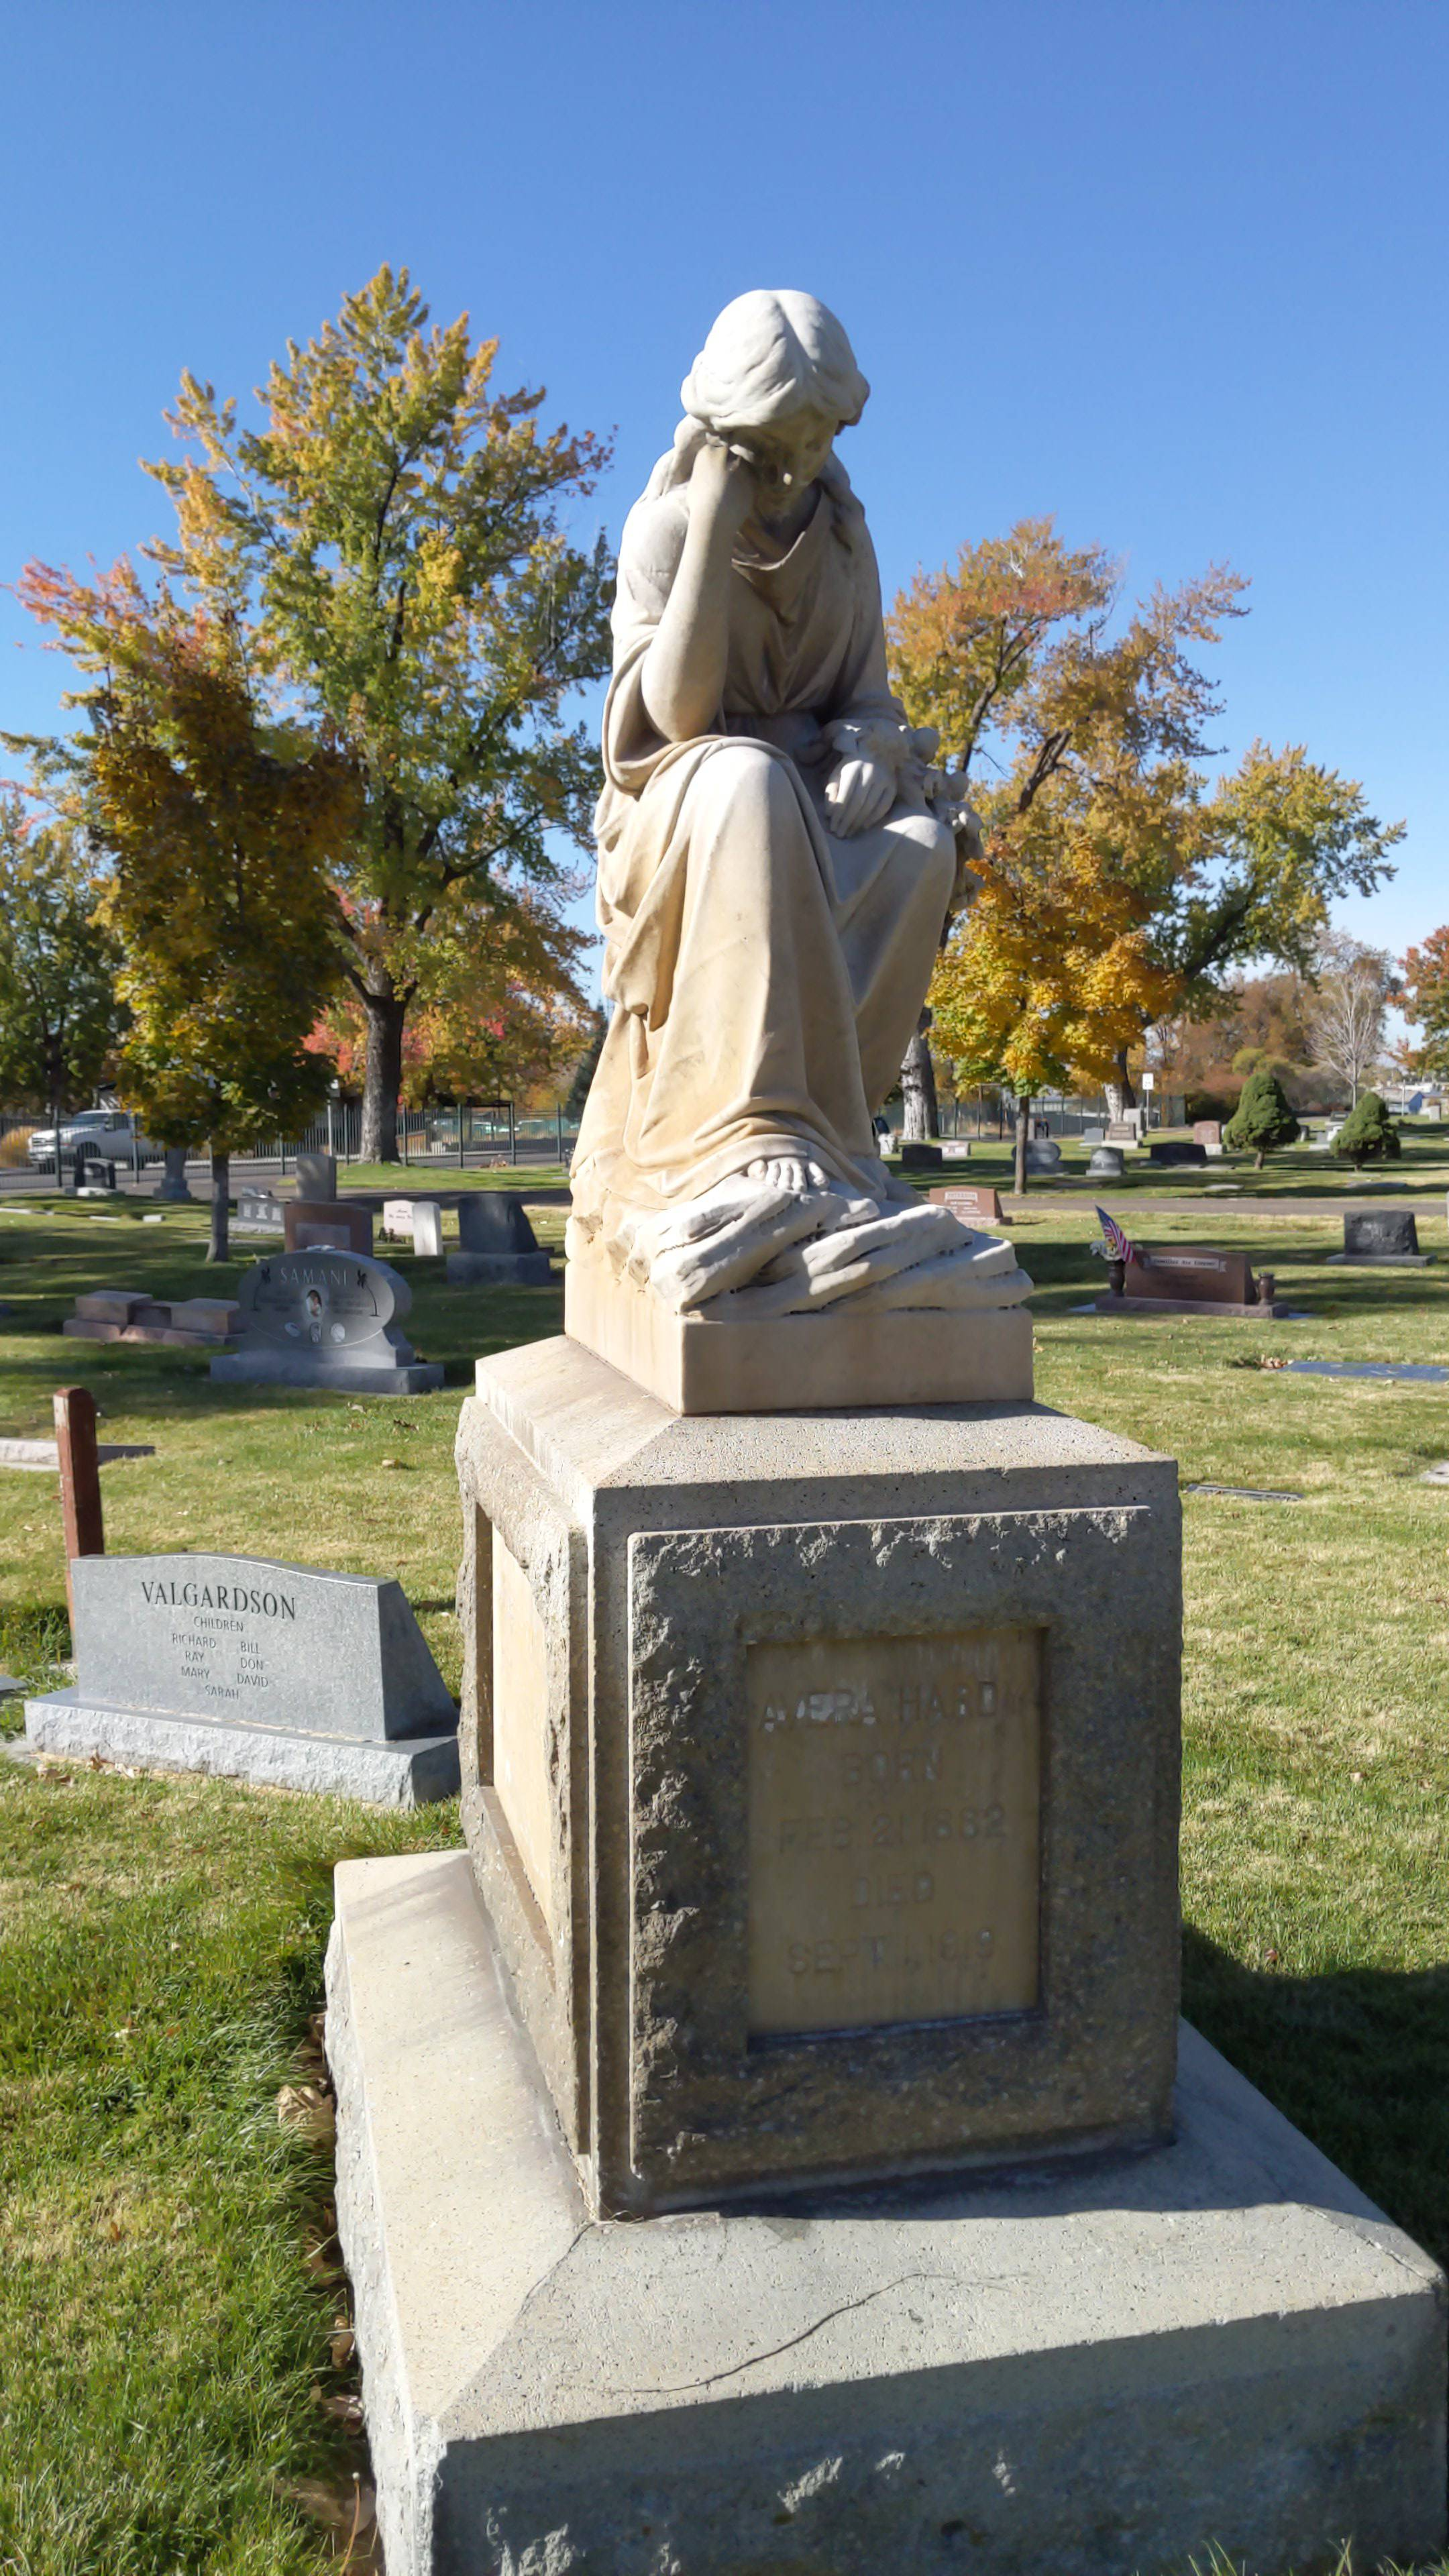statue: (455, 295, 1185, 2206)
